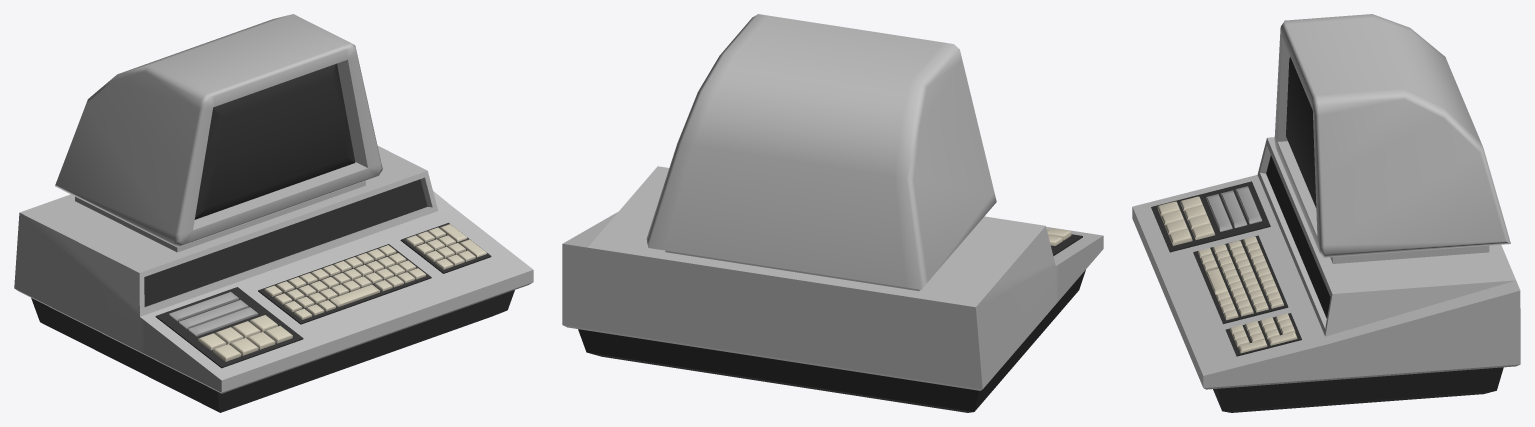
File: monitor_01_asset.fbx
The picture shows the model from 3 angles, left to right: view 1: azimuth 30°, elevation 25°; view 2: azimuth 150°, elevation 25°; view 3: azimuth 270°, elevation 25°; orthographic projection. The views are drawn at different scales.
Parts seen in each view (by area): view 1: monitor_01_asset; view 2: monitor_01_asset; view 3: monitor_01_asset.
Part boxes in pixels (x1=…): monitor_01_asset: x1=14, y1=14, x2=533, y2=412; monitor_01_asset: x1=562, y1=14, x2=1103, y2=412; monitor_01_asset: x1=1132, y1=14, x2=1520, y2=412.
Size of the model in its own units: 1.39 by 0.8902 by 1.18.
